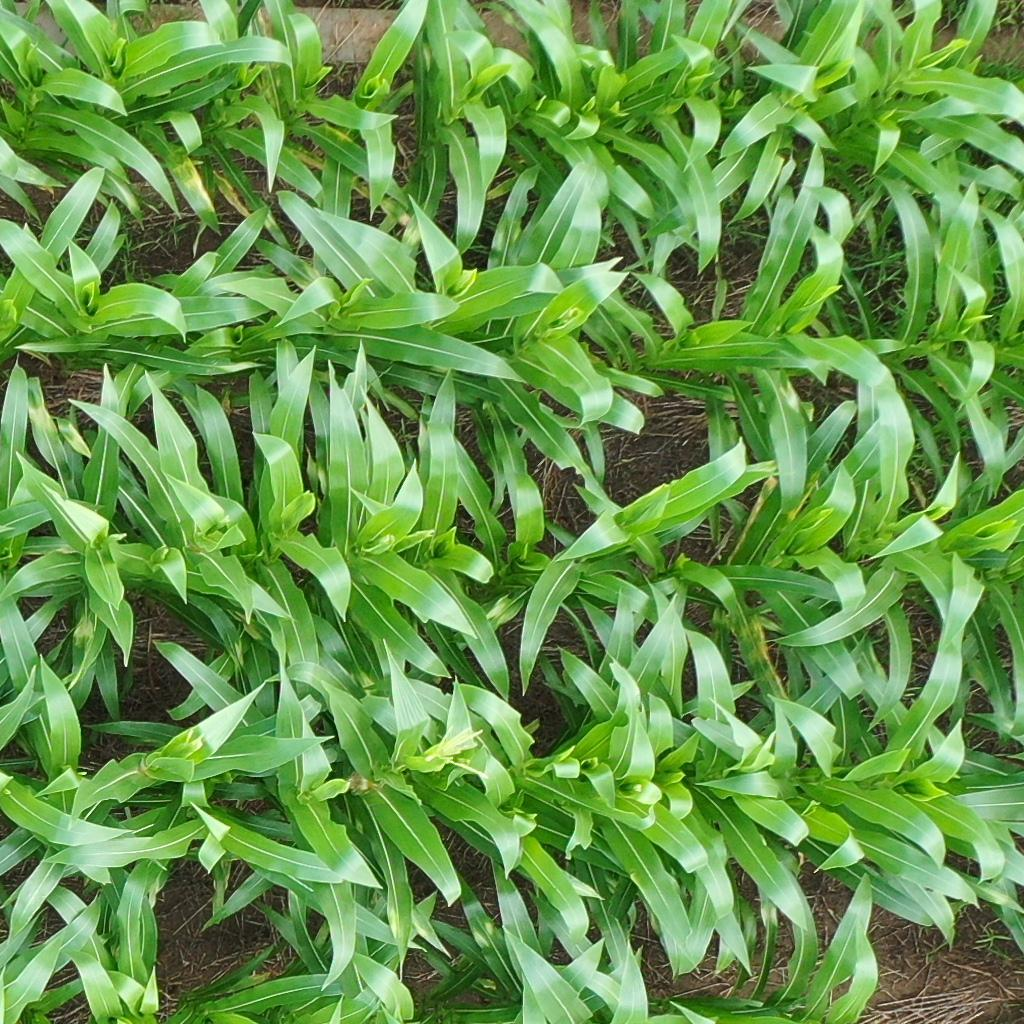Tassel: (416, 725, 492, 785), (175, 727, 208, 749)
